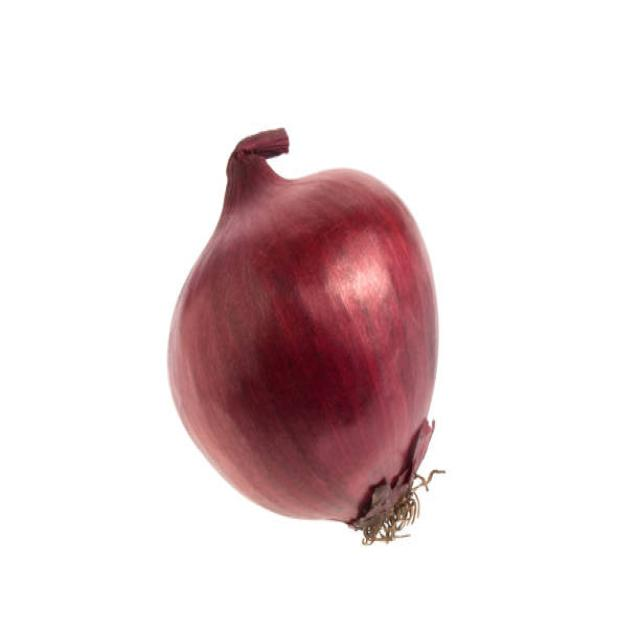onion: (151, 157, 449, 527)
